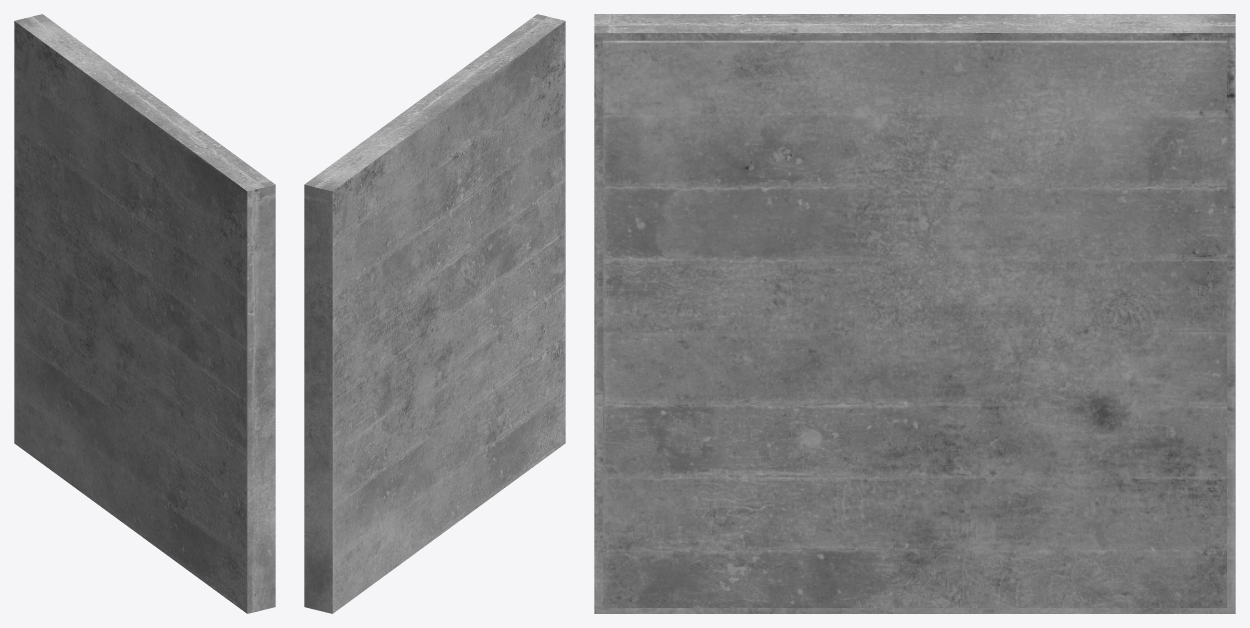
Rendered from panel_house_002.fbx.
3 renders of one model, left to right at view 1: azimuth 30°, elevation 25°; view 2: azimuth 150°, elevation 25°; view 3: azimuth 270°, elevation 25°, orthographic. The views are drawn at different scales.
Visible parts, largest first — view 1: pavel_006.001; view 2: pavel_006.001; view 3: pavel_006.001.
Part boxes in pixels (x1=…): pavel_006.001: x1=14, y1=14, x2=275, y2=613; pavel_006.001: x1=304, y1=14, x2=565, y2=613; pavel_006.001: x1=594, y1=14, x2=1235, y2=613.
Size of the model in its own units: 30.88 by 400 by 400.
